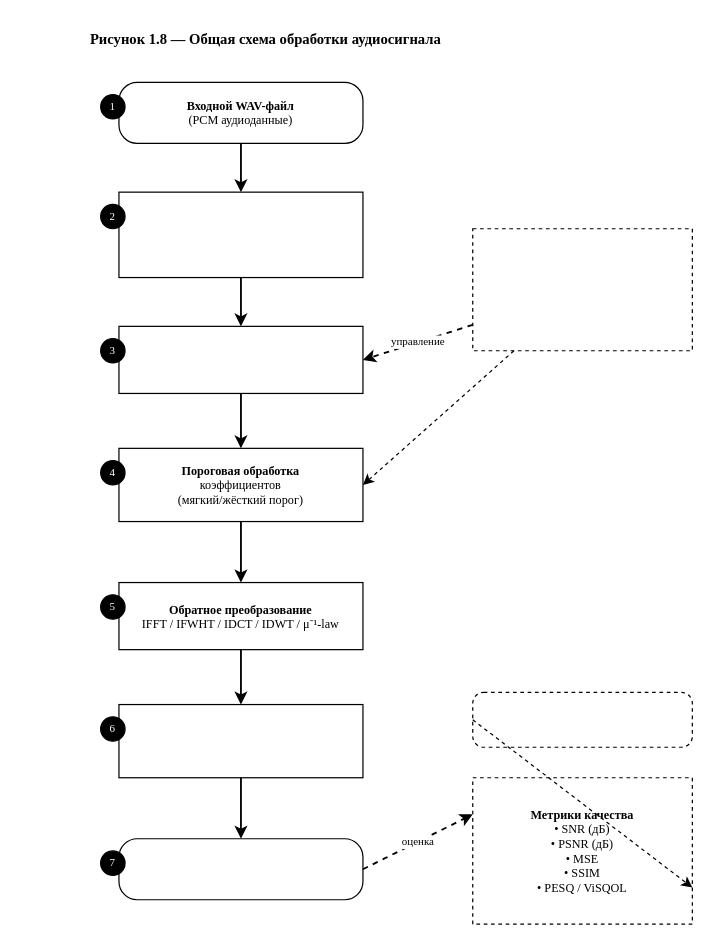
The diagram is 723 pixels wide and 946 high, and some of its shapes have lost their labels. Each missing label, with the centre of its shape:
Overlap-Add Синтез перекрытием и сложением фреймов: point (240, 740)
Выходной WAV-файл (обработанный сигнал): point (240, 869)
Параметры метода • Размер фрейма N • Тип преобразования • Порог λ • Тип окна: point (582, 289)
Предобработка Нормализация Фреймирование Оконная функция: point (240, 234)
Прямое преобразование FFT / FWHT / DCT / DWT / μ-law: point (240, 359)
Эталонный сигнал (оригинал): point (582, 719)
